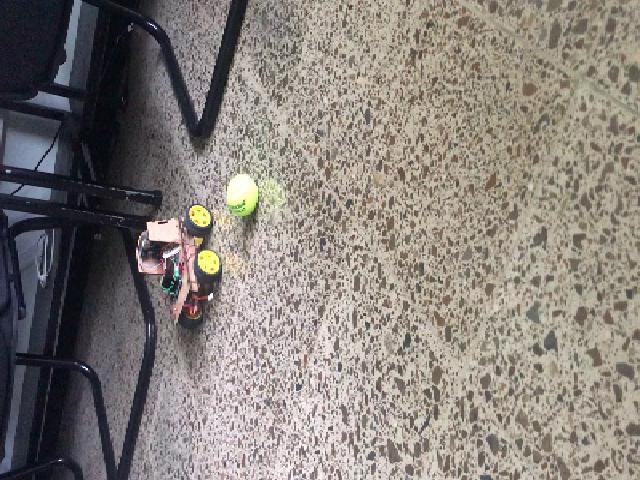Ball: (226, 174, 256, 216)
Robot: (133, 204, 219, 329)
